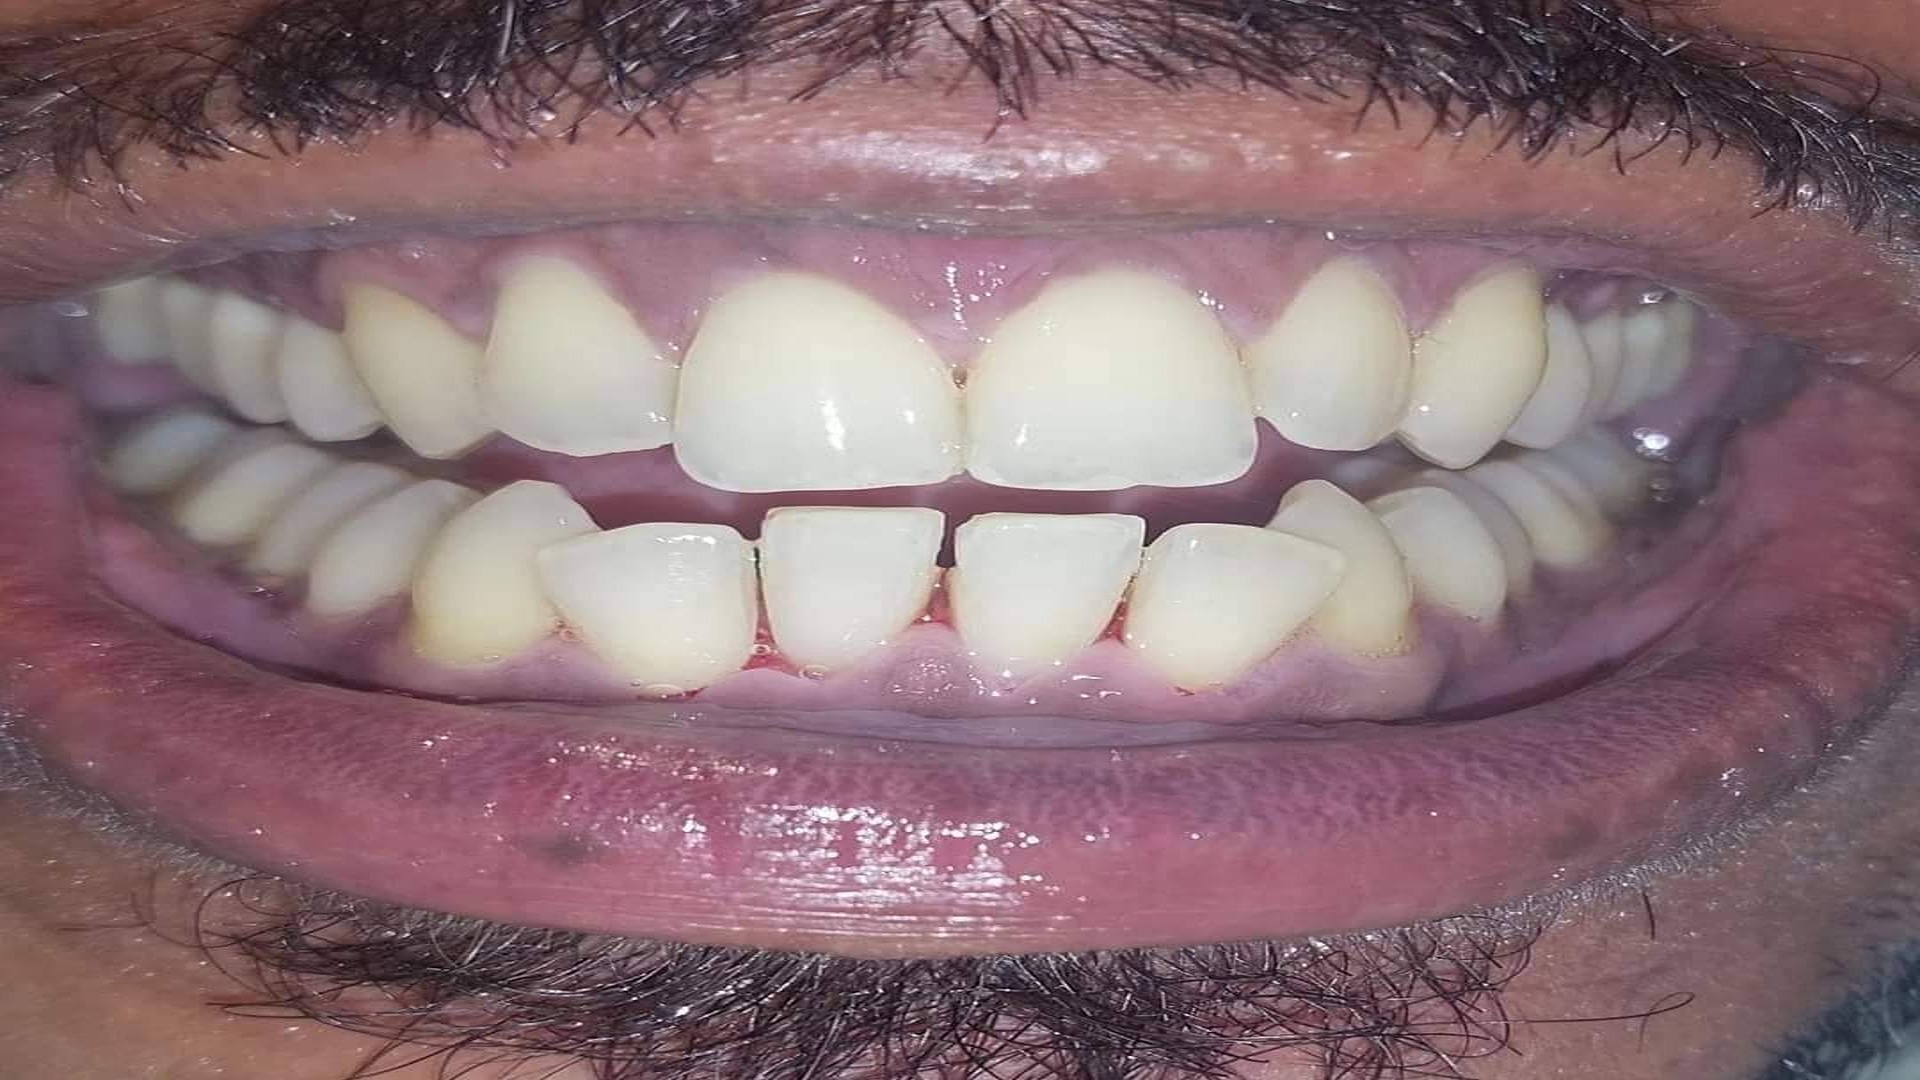tooth: (671, 273, 964, 492), (967, 266, 1254, 489), (477, 255, 679, 456), (232, 462, 484, 616), (535, 522, 757, 690), (1124, 524, 1346, 687), (411, 483, 591, 665), (757, 506, 944, 680), (1395, 262, 1548, 469), (1250, 257, 1412, 450), (952, 512, 1145, 673), (342, 280, 495, 459), (1267, 479, 1415, 655), (1464, 440, 1617, 568), (1365, 487, 1509, 620), (1505, 303, 1621, 450), (280, 319, 385, 440)
